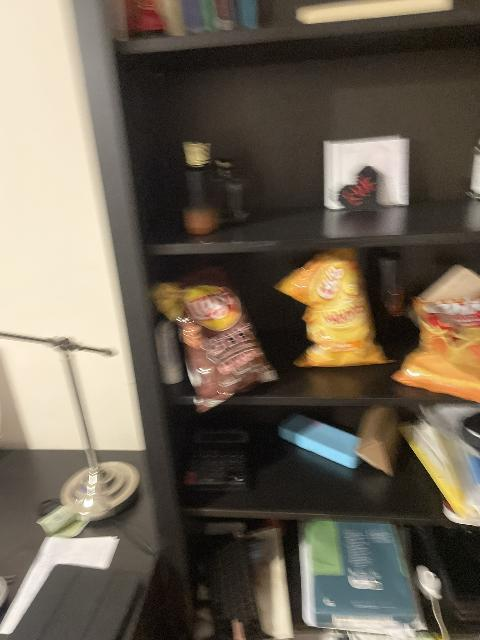Chio Cascaval 125g: (390, 290, 480, 405)
Chio Hula Hoops Cheese 70g: (271, 248, 389, 368)
Lays Beef Grilled Ribs 125g: (149, 268, 279, 411)
